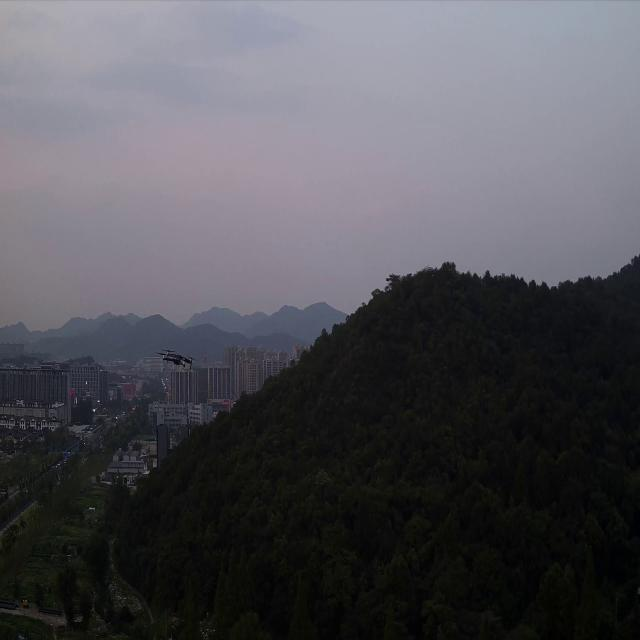UAV: (158, 348, 196, 368)
